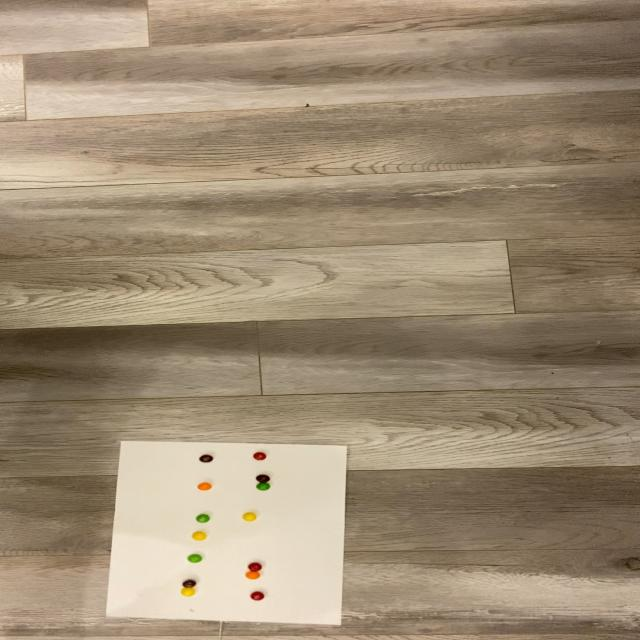smartie: (190, 531, 206, 541), (256, 473, 271, 483), (183, 578, 198, 588), (244, 571, 259, 581), (196, 483, 211, 492), (256, 482, 271, 491), (242, 512, 257, 521), (187, 554, 202, 563), (180, 588, 195, 597), (199, 455, 213, 464), (252, 452, 266, 461), (195, 513, 209, 522), (251, 592, 265, 601), (248, 563, 262, 571)
